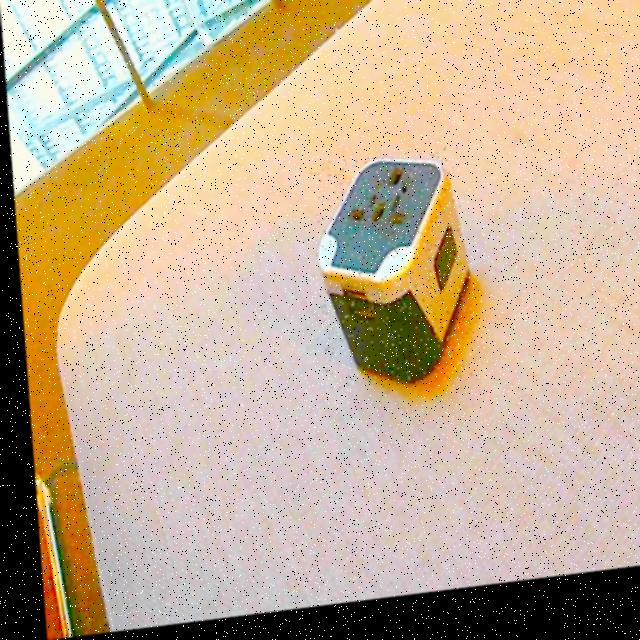adapter: (307, 157, 470, 402)
